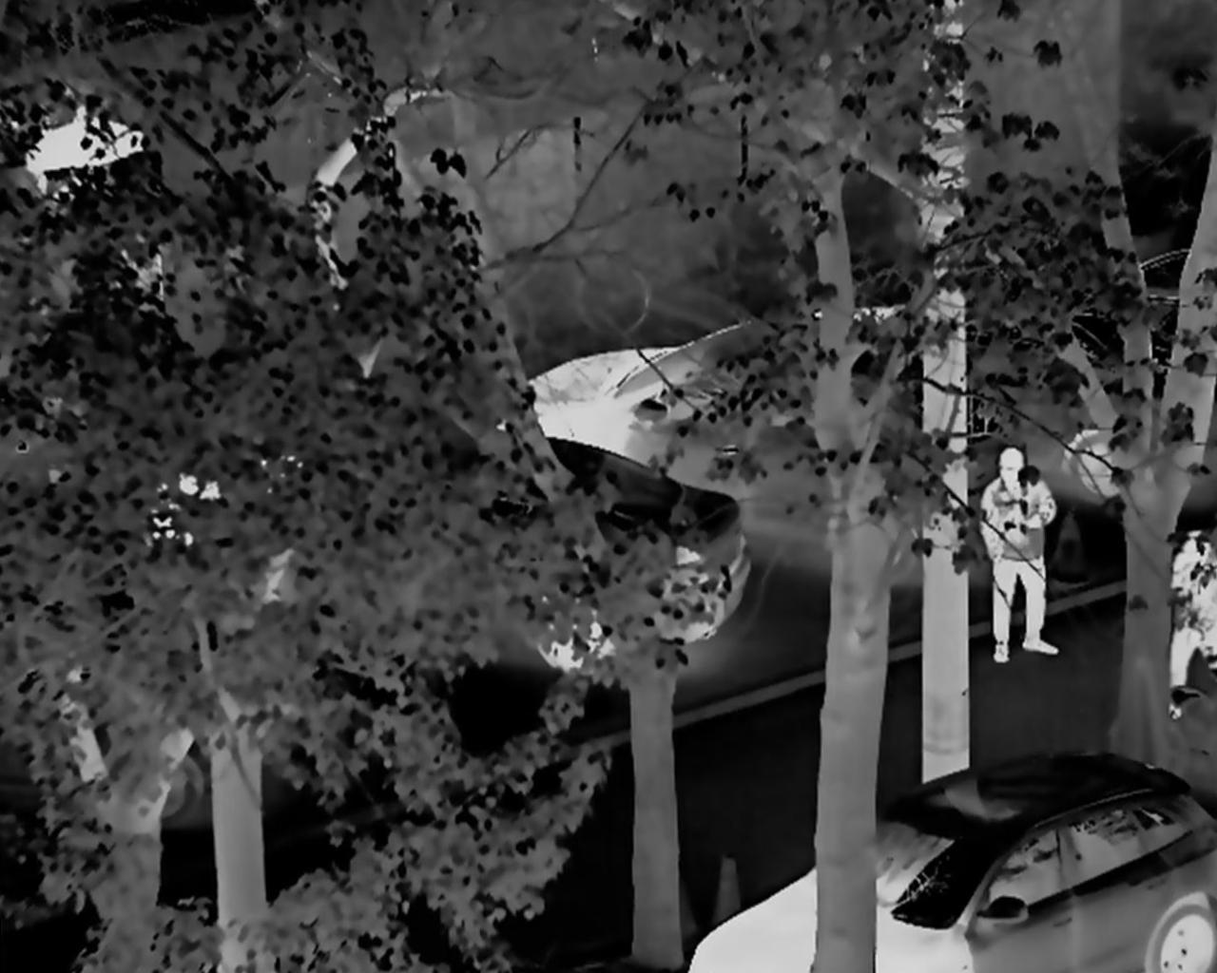person: (967, 441, 1069, 660), (1161, 517, 1217, 709)
